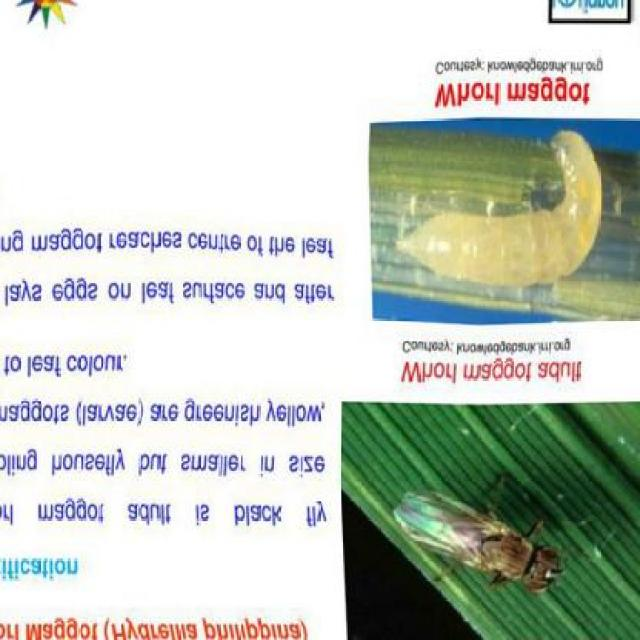whorl-maggot: (386, 132, 606, 288)
